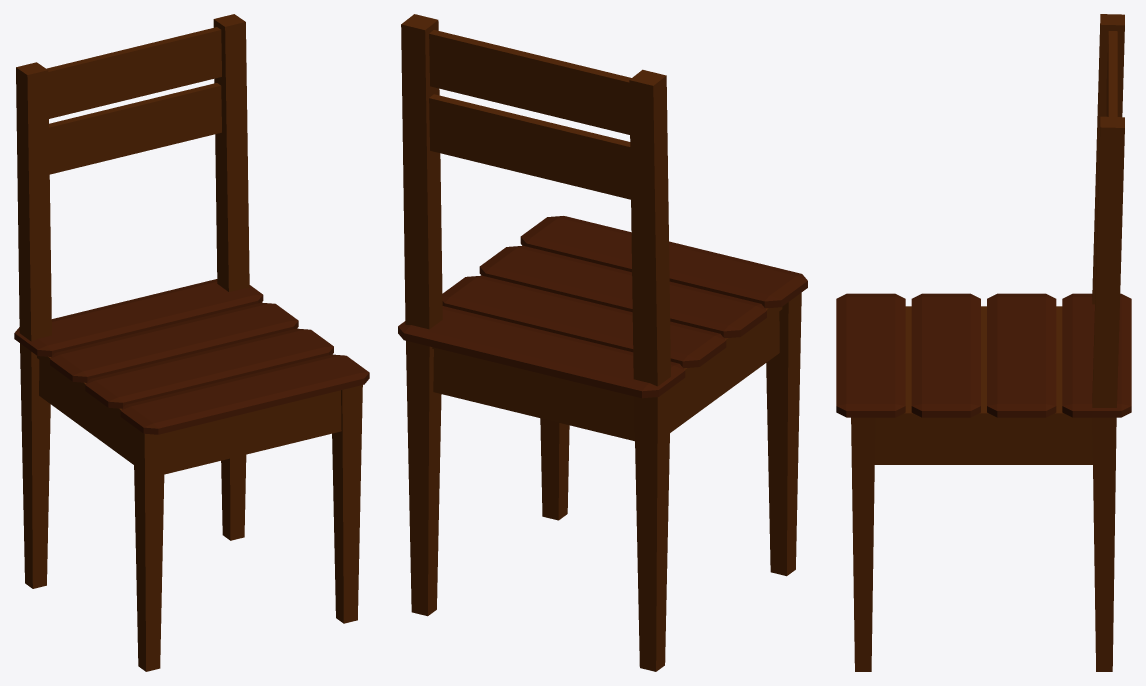
File: Cadeiras.fbx
3 renders of one model, left to right at view 1: azimuth 30°, elevation 25°; view 2: azimuth 150°, elevation 25°; view 3: azimuth 270°, elevation 25°, orthographic. The views are drawn at different scales.
Parts seen in each view (by area): view 1: Cube.070; view 2: Cube.070; view 3: Cube.070.
Boxes of the visible parts, left/top/right/bottom form: Cube.070: left=14, top=14, right=369, bottom=671; Cube.070: left=398, top=14, right=807, bottom=671; Cube.070: left=836, top=14, right=1131, bottom=671.
Bounding box in the file's own units: 184 × 400 × 196.
